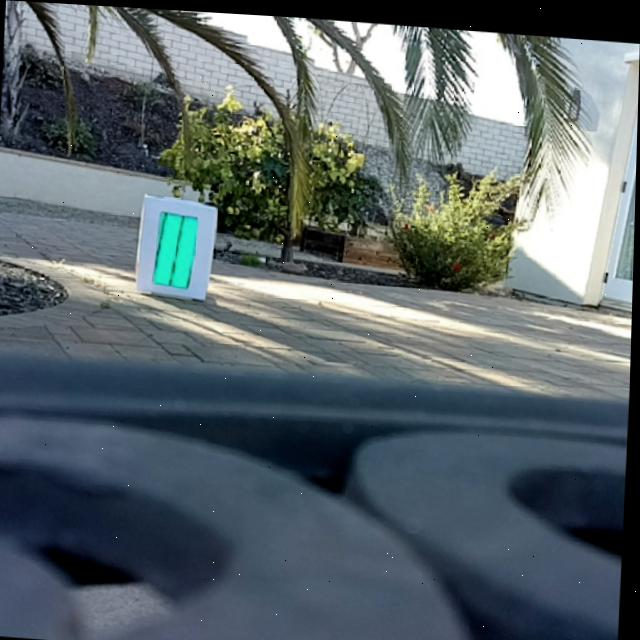led: (153, 206, 201, 289)
